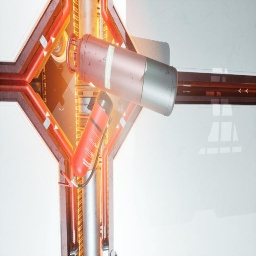FireExtinguisher ]: (58, 90, 114, 188)
NitrogenTank ,: (66, 33, 178, 116)
